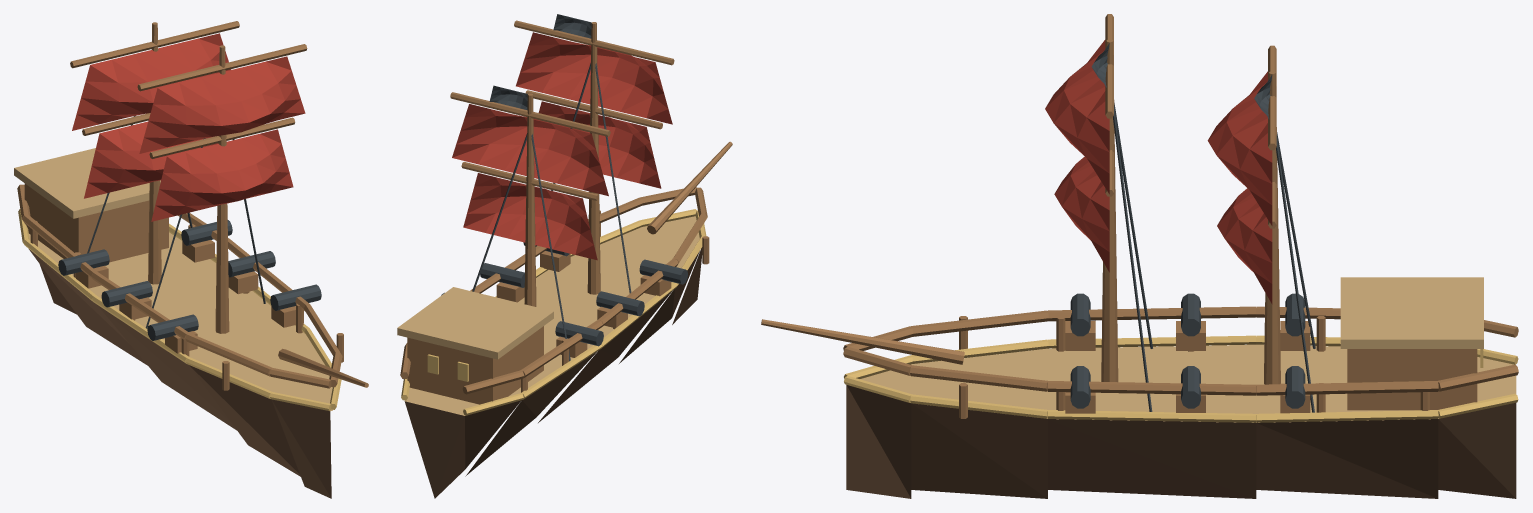
Rendered from npc_corsair.glb.
The picture shows the model from 3 angles, left to right: view 1: azimuth 30°, elevation 25°; view 2: azimuth 150°, elevation 25°; view 3: azimuth 270°, elevation 25°; orthographic projection. The views are drawn at different scales.
Parts seen in each view (by area): view 1: npc_corsair; view 2: npc_corsair; view 3: npc_corsair.
Part boxes in pixels (bbox=[...]): npc_corsair: bbox=[14, 21, 368, 498]; npc_corsair: bbox=[397, 14, 732, 498]; npc_corsair: bbox=[761, 14, 1518, 498].
Size of the model in its own units: 2.31 by 5.05 by 7.57.
